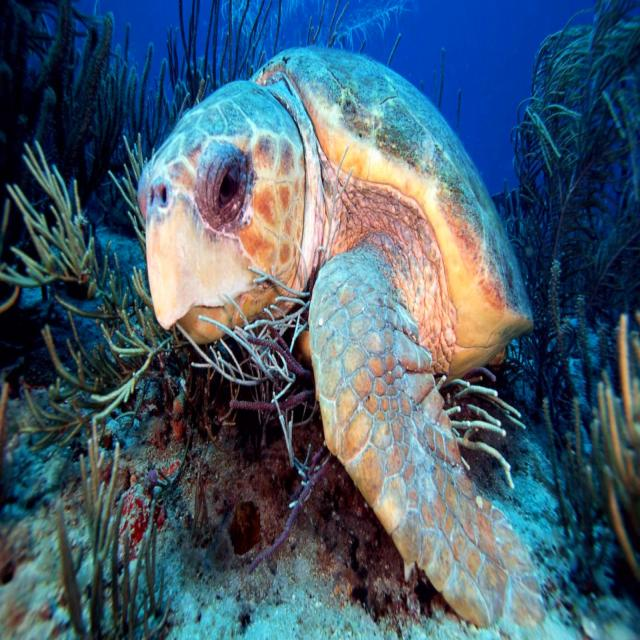turtle: (138, 47, 544, 626)
